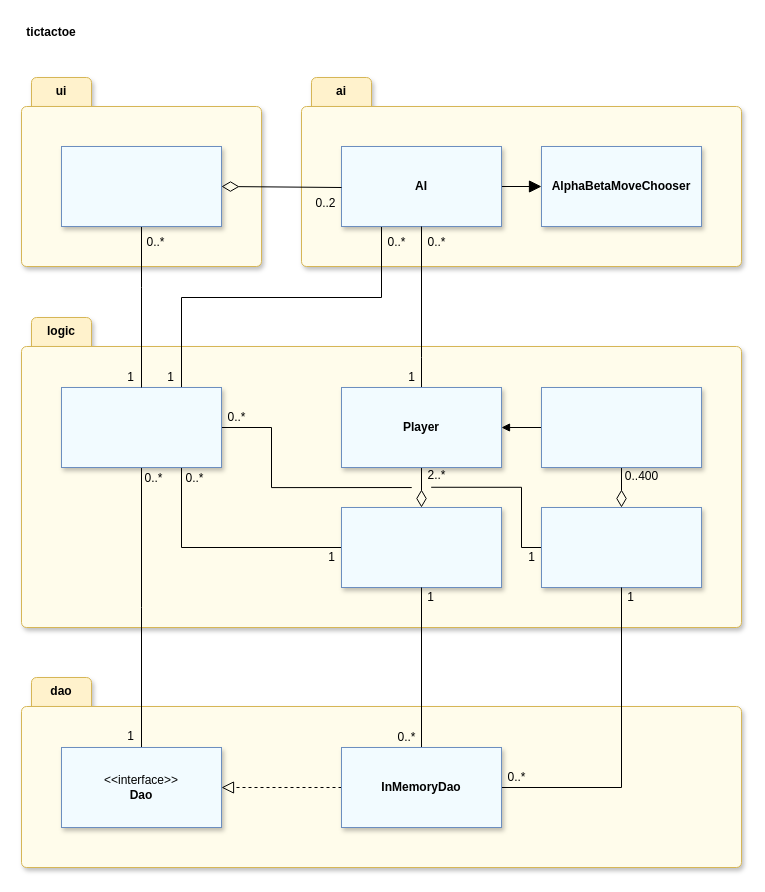
The diagram is 765 pixels wide and 892 high, and some of its shapes have lost their labels. Each missing label, with the centre of its shape:
"GameBoard" goes at [622,548].
"GameService" goes at [142,428].
"GUI" goes at [142,188].
"Move" goes at [622,428].
"RuleBook" goes at [422,548].
